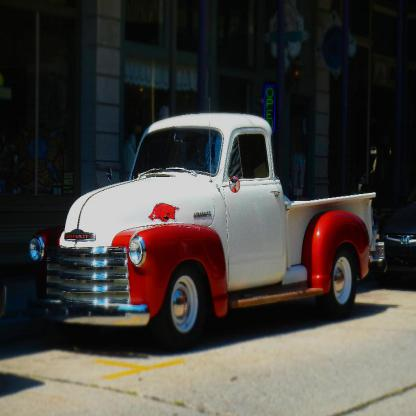Truck: (27, 98, 387, 346)
